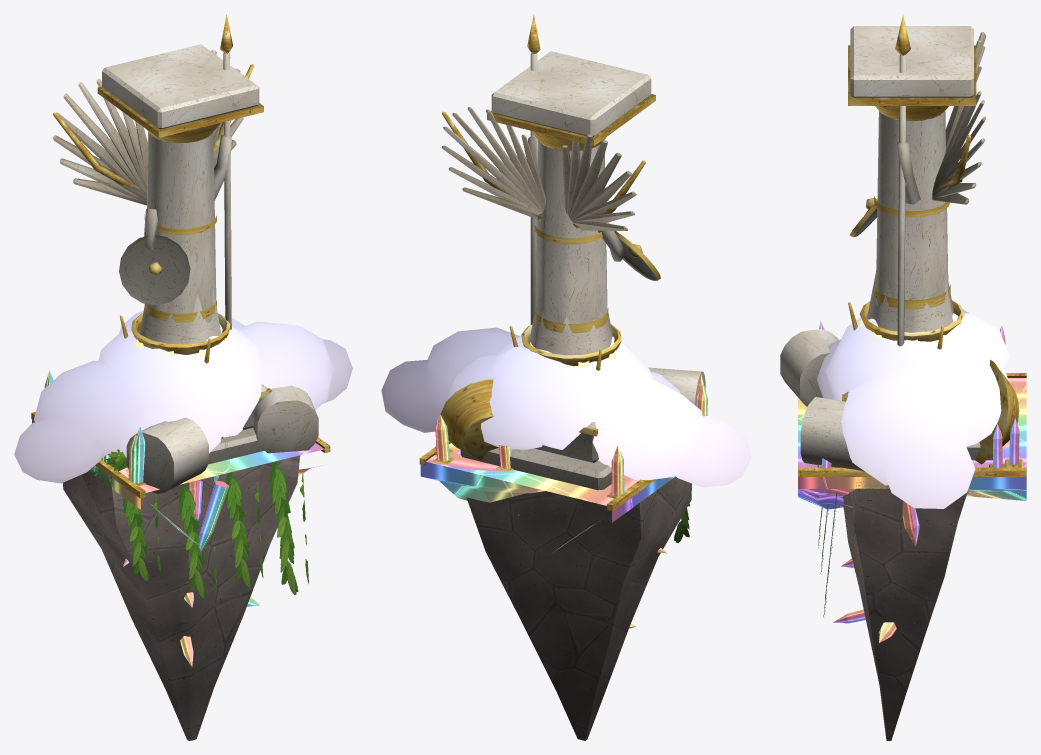
The model's file is kit_bifrost.glb.
3 renders of one model, left to right at view 1: azimuth 30°, elevation 25°; view 2: azimuth 150°, elevation 25°; view 3: azimuth 270°, elevation 25°, orthographic. The views are drawn at different scales.
Visible parts, largest first — view 1: bifrost_island_edge_mesh, bifrost_cloud_mesh, bifrost_column_mesh, bifrost_valkyrie_statue_mesh, bifrost_column_broken_mesh, bifrost_bridge_mesh, bifrost_bridge_curve_mesh, bifrost_rune_brazier_mesh; view 2: bifrost_cloud_mesh, bifrost_island_edge_mesh, bifrost_column_mesh, bifrost_valkyrie_statue_mesh, bifrost_bridge_mesh, bifrost_column_broken_mesh, bifrost_bridge_curve_mesh, bifrost_rune_brazier_mesh; view 3: bifrost_cloud_mesh, bifrost_column_mesh, bifrost_island_edge_mesh, bifrost_valkyrie_statue_mesh, bifrost_column_broken_mesh, bifrost_bridge_mesh, bifrost_bridge_curve_mesh, bifrost_rune_brazier_mesh.
Boxes of the visible parts, box(x1,y1,x2,y2) form: bifrost_island_edge_mesh: box(63, 435, 308, 740); bifrost_cloud_mesh: box(14, 310, 352, 483); bifrost_column_mesh: box(97, 44, 263, 328); bifrost_valkyrie_statue_mesh: box(53, 15, 272, 464); bifrost_column_broken_mesh: box(126, 305, 318, 493); bifrost_bridge_mesh: box(31, 370, 330, 551); bifrost_bridge_curve_mesh: box(135, 426, 324, 547); bifrost_rune_brazier_mesh: box(120, 313, 230, 363); bifrost_cloud_mesh: box(381, 327, 751, 487); bifrost_island_edge_mesh: box(466, 476, 691, 740); bifrost_column_mesh: box(487, 51, 655, 329); bifrost_valkyrie_statue_mesh: box(442, 14, 660, 490); bifrost_bridge_mesh: box(419, 384, 707, 552); bifrost_column_broken_mesh: box(440, 314, 705, 500); bifrost_bridge_curve_mesh: box(420, 374, 705, 515); bifrost_rune_brazier_mesh: box(509, 324, 621, 370); bifrost_cloud_mesh: box(817, 309, 1009, 508); bifrost_column_mesh: box(848, 26, 976, 306); bifrost_island_edge_mesh: box(818, 481, 968, 740); bifrost_valkyrie_statue_mesh: box(842, 14, 992, 460); bifrost_column_broken_mesh: box(780, 290, 1019, 471); bifrost_bridge_mesh: box(798, 325, 1026, 500); bifrost_bridge_curve_mesh: box(798, 321, 1022, 546); bifrost_rune_brazier_mesh: box(848, 300, 964, 349).
Size of the model in its own units: 3.6 by 7.2 by 2.15.
Materials: 8 (6 with a texture image).
